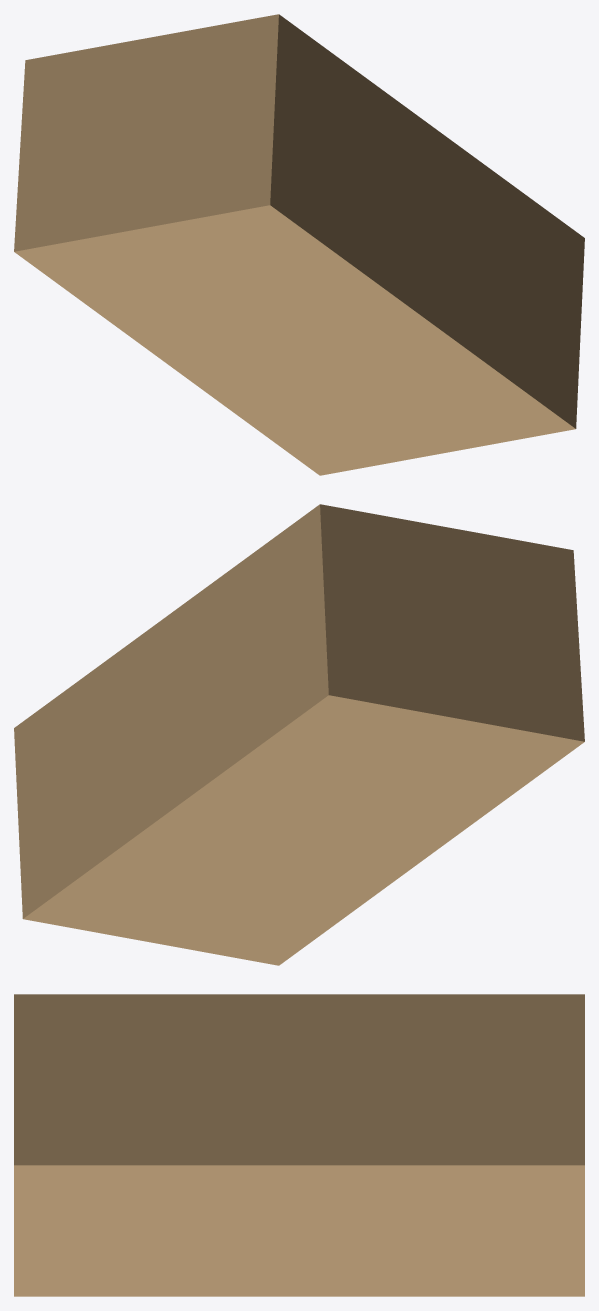
The picture shows the model from 3 angles, top to bottom: view 1: azimuth 30°, elevation 25°; view 2: azimuth 150°, elevation 25°; view 3: azimuth 270°, elevation 25°; orthographic projection. The views are drawn at different scales.
Parts seen in each view (by area): view 1: 0_0_3_2_0_0_1_1_3_0_2; view 2: 0_0_3_2_0_0_1_1_3_0_2; view 3: 0_0_3_2_0_0_1_1_3_0_2.
Boxes of the visible parts, x1,y1,x2,y2 form: 0_0_3_2_0_0_1_1_3_0_2: (14,14,584,475); 0_0_3_2_0_0_1_1_3_0_2: (14,504,584,965); 0_0_3_2_0_0_1_1_3_0_2: (14,994,584,1296).
Size of the model in its own units: 10.5 by 7.75 by 21.
